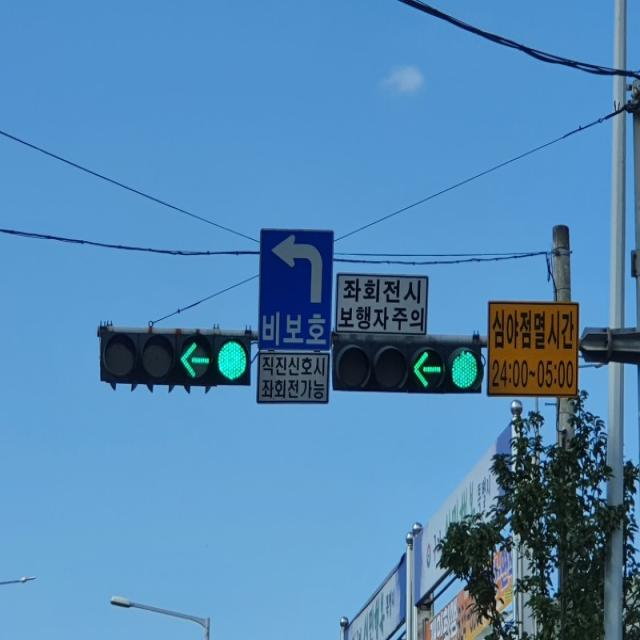Green Light: (213, 332, 251, 386), (446, 343, 482, 394)
